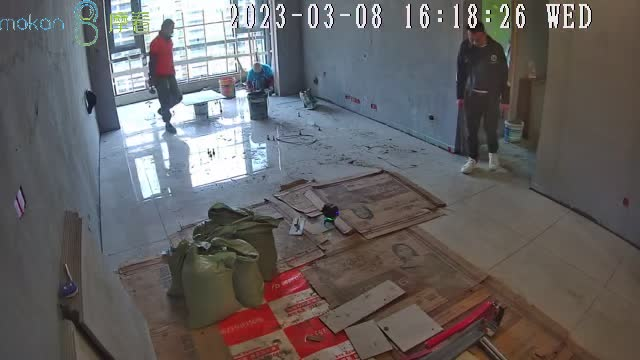people: (454, 19, 511, 178), (148, 18, 183, 134), (246, 62, 274, 93)
window: (105, 1, 267, 96)
